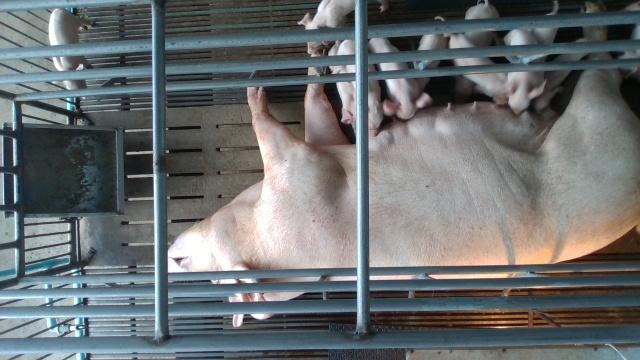piglet: (370, 38, 437, 122), (330, 39, 385, 137), (299, 0, 390, 55), (447, 35, 513, 109), (532, 37, 590, 115), (48, 7, 95, 100), (502, 28, 548, 116), (456, 0, 498, 96), (417, 15, 452, 91)
sow-sleep-lactate: (168, 27, 640, 328)
